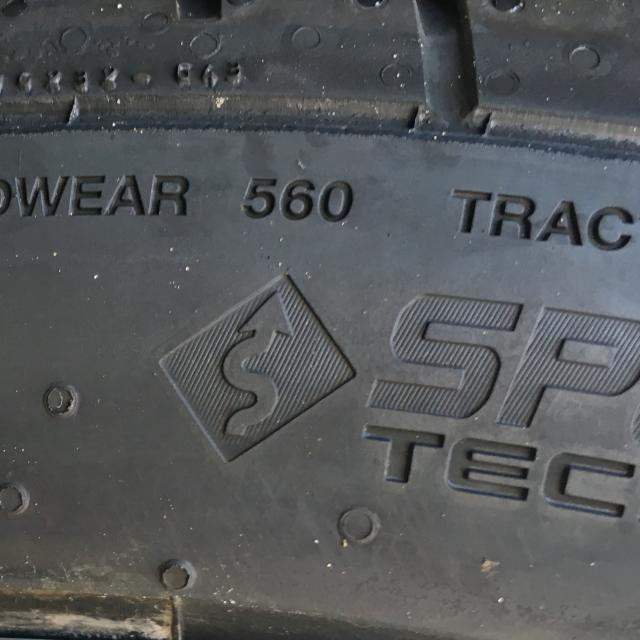Non-defective: (0, 0, 640, 565)
